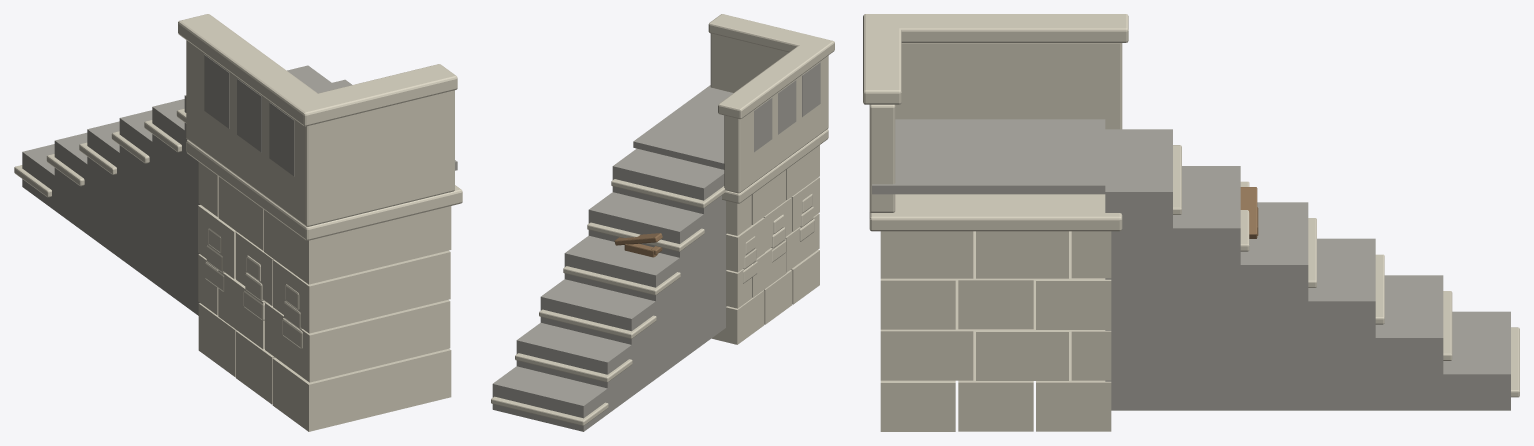
Rendered from monastery_readers_pulpit.glb.
The picture shows the model from 3 angles, left to right: view 1: azimuth 30°, elevation 25°; view 2: azimuth 150°, elevation 25°; view 3: azimuth 270°, elevation 25°; orthographic projection. The views are drawn at different scales.
Parts seen in each view (by area): view 1: world; view 2: world; view 3: world.
Boxes of the visible parts, x1,y1,x2,y2 form: world: (14,14,462,431); world: (491,14,834,431); world: (863,14,1519,431).
Bounding box in the file's own units: 0.5931 × 1.14 × 2.
